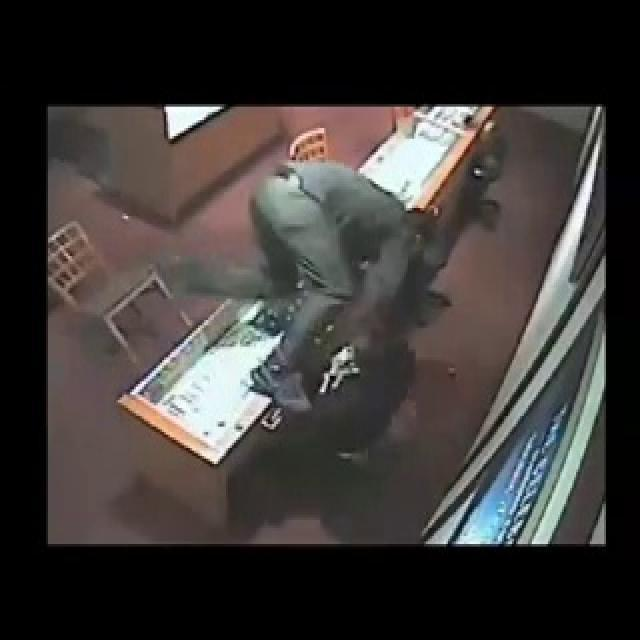Shoplifting: (211, 154, 483, 490)
